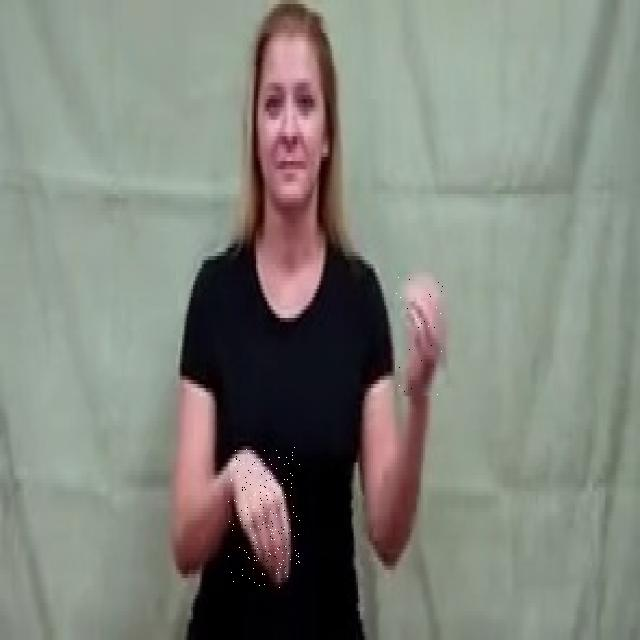ingredients: (228, 446, 300, 588), (396, 274, 444, 396)
